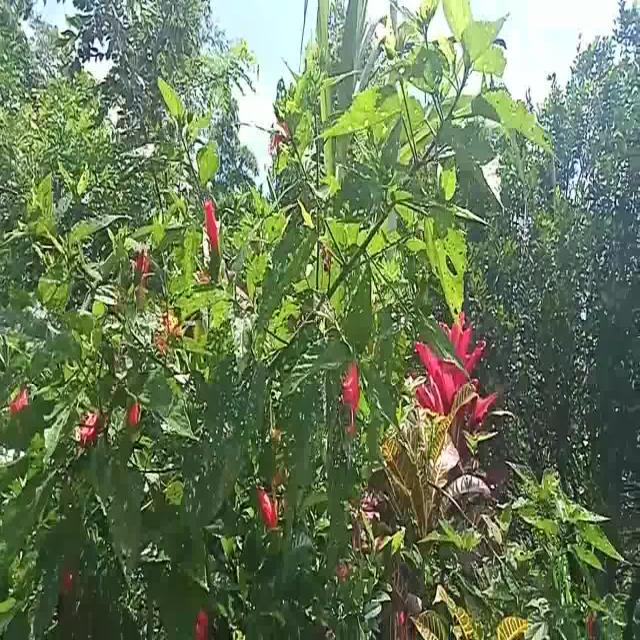Flower: (202, 194, 226, 267), (342, 351, 361, 421), (254, 485, 281, 527)
